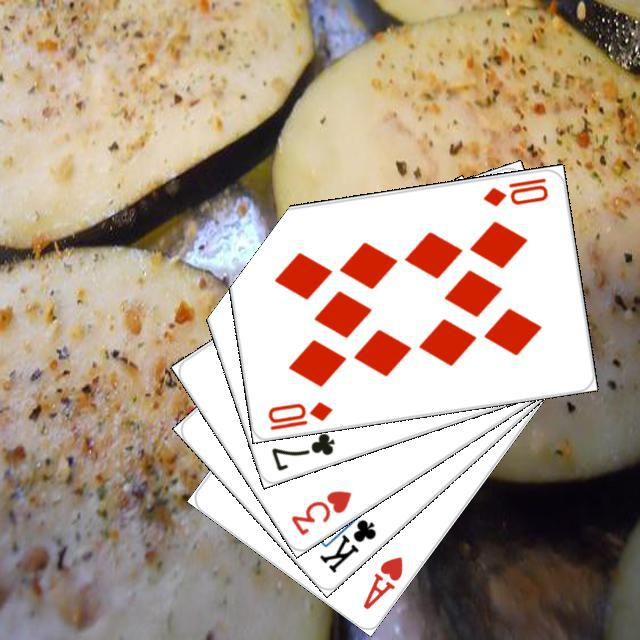10d: (478, 173, 550, 208), (263, 397, 334, 432)
3h: (285, 485, 353, 537)
7c: (266, 428, 337, 473)
Ah: (358, 551, 405, 612)
Kc: (314, 501, 378, 575)
